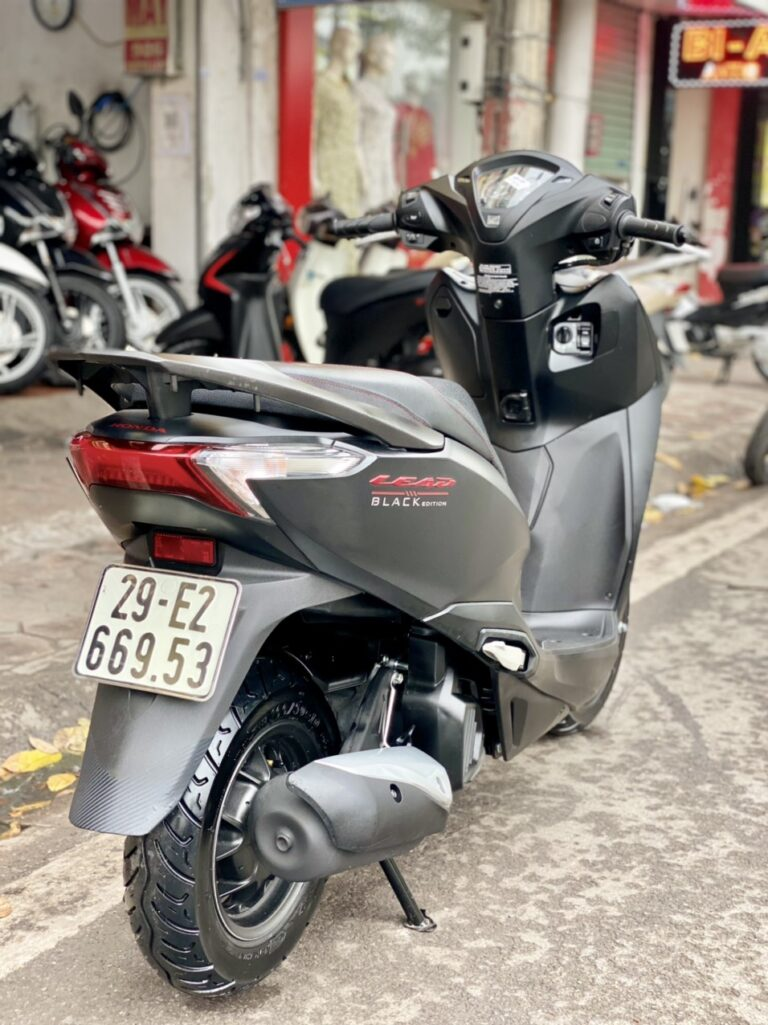bien_so: (68, 558, 250, 712)
